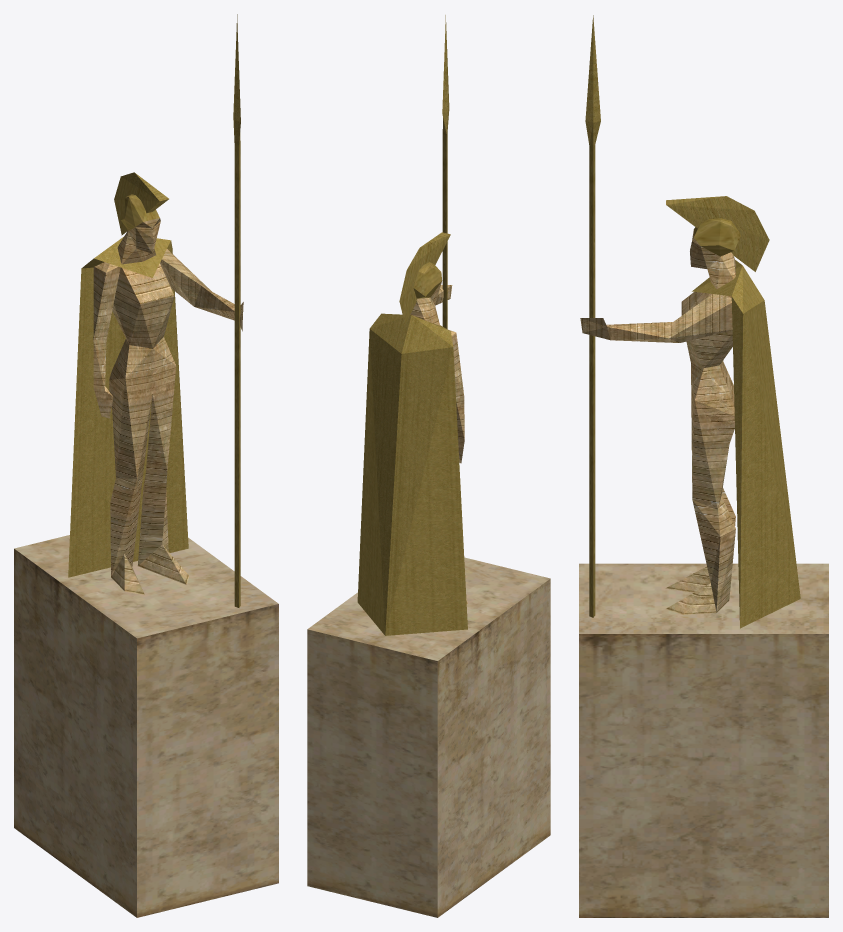
The model's file is mun_tato_guild_statue_freestand_s01_l1.fbx.
3 renders of one model, left to right at view 1: azimuth 30°, elevation 25°; view 2: azimuth 150°, elevation 25°; view 3: azimuth 270°, elevation 25°, orthographic. The views are drawn at different scales.
Parts seen in each view (by area): view 1: mesh_node; view 2: mesh_node; view 3: mesh_node.
Part boxes in pixels (<box>): mesh_node: <box>14,14,278,917</box>; mesh_node: <box>307,15,550,917</box>; mesh_node: <box>579,15,828,917</box>.
Bounding box in the file's own units: 2 × 11.75 × 3.
